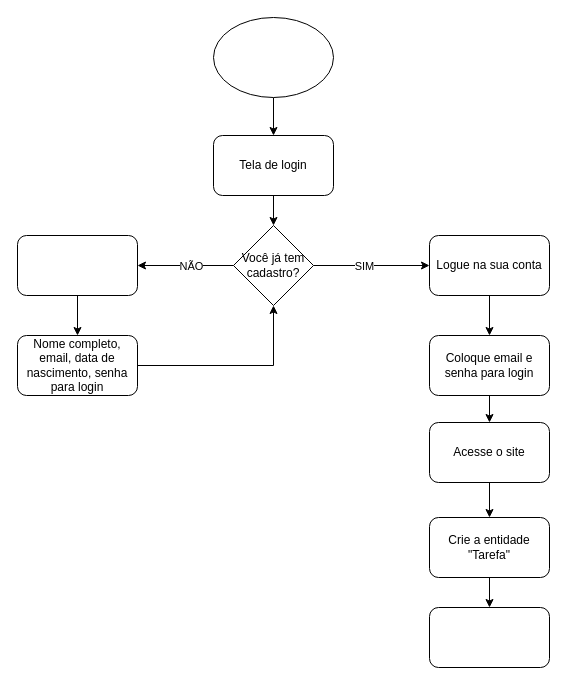
This 567x685 diagram has some shape labels left out. Each missing label, with the centre of its shape:
Crie a entidade "Usuário": (489,637)
Início: (273,57)
Realize cadastro de novo usuário: (77,265)
